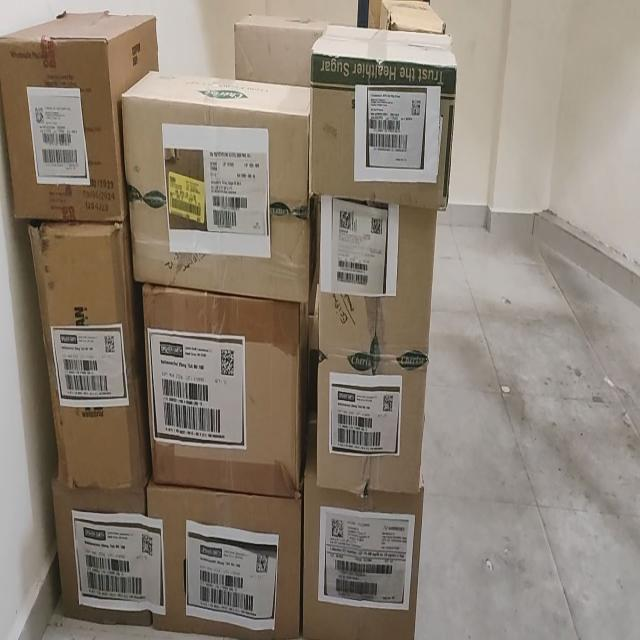BoxFace: (120, 68, 312, 302), (307, 194, 438, 495), (141, 282, 307, 496), (26, 219, 148, 492), (146, 475, 302, 637), (308, 60, 455, 212), (0, 36, 110, 222), (305, 476, 425, 638), (50, 474, 166, 626)
